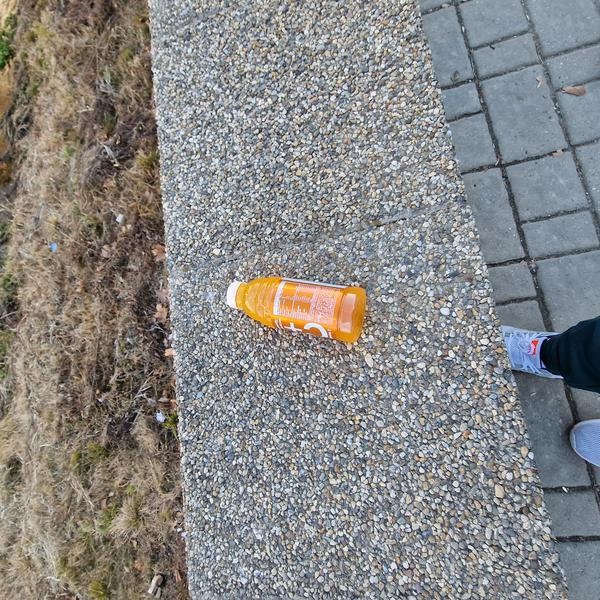plastic_bottle: (222, 268, 368, 343)
